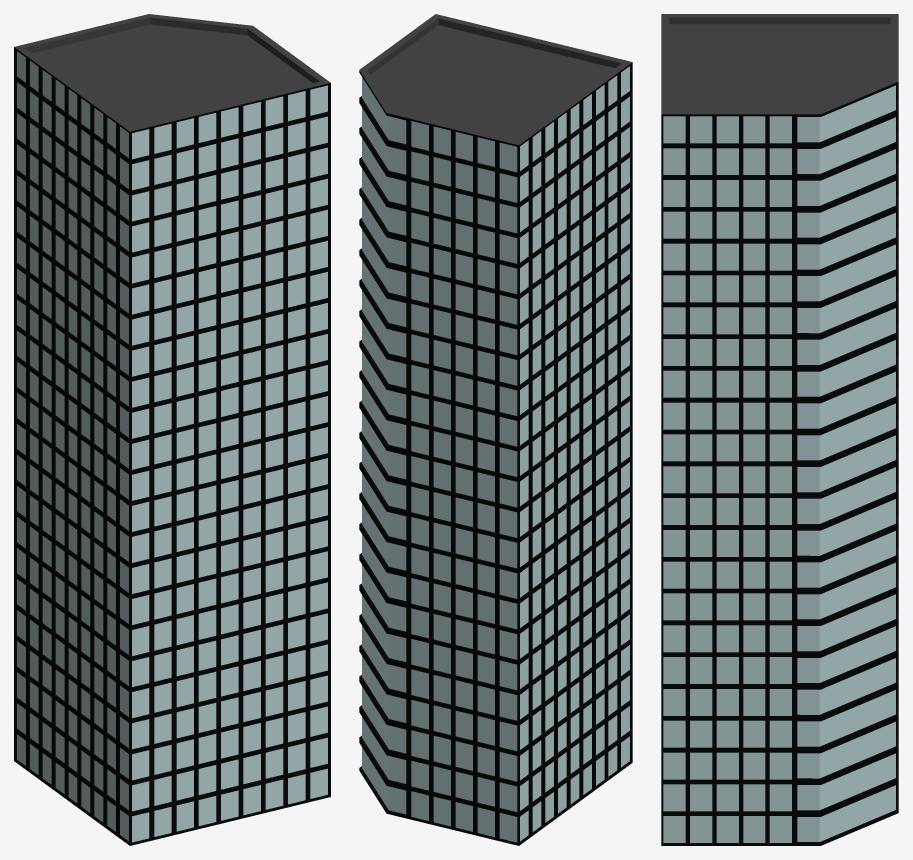
Rendered from Sky Scrapers 2.fbx.
3 views of the same model, side by side, from view 1: azimuth 30°, elevation 25°; view 2: azimuth 150°, elevation 25°; view 3: azimuth 270°, elevation 25° (orthographic). The views are drawn at different scales.
Parts seen in each view (by area): view 1: Cube.004; view 2: Cube.004; view 3: Cube.004.
Boxes of the visible parts, left/top/right/bottom form: Cube.004: left=14, top=14, right=330, bottom=845; Cube.004: left=359, top=14, right=632, bottom=845; Cube.004: left=661, top=14, right=898, bottom=845.
Size of the model in its own units: 400 by 1359 by 400.
